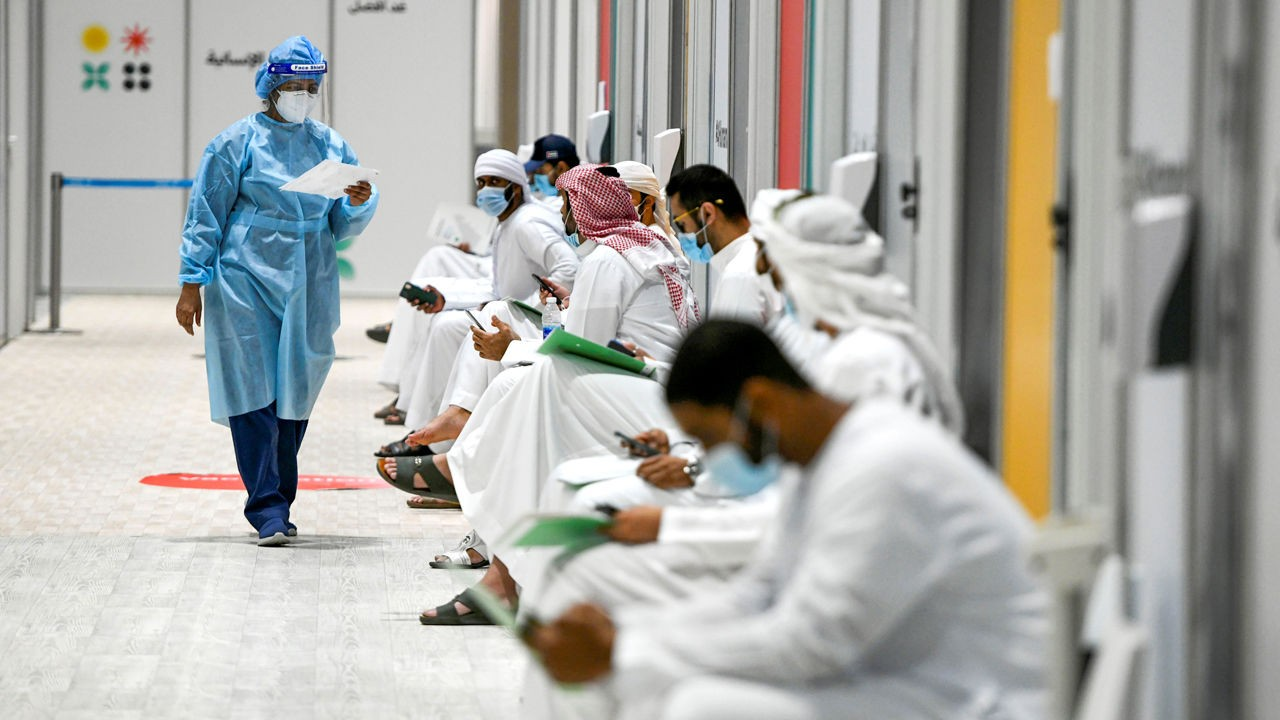Coverall: (178, 112, 380, 423)
Face_Shield: (267, 59, 331, 134)
mask_weared_incorrectly: (557, 188, 586, 249)
with_mask: (686, 426, 788, 495), (667, 209, 710, 266), (274, 81, 324, 127), (471, 174, 513, 216), (530, 163, 553, 194)
